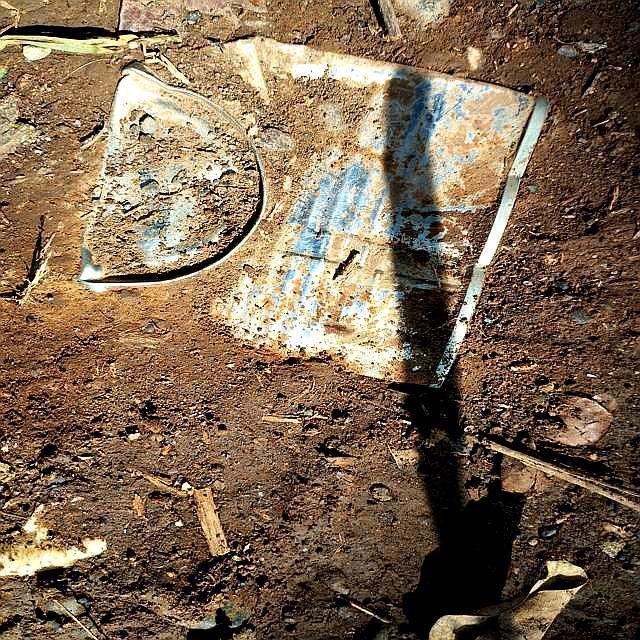Non-biodegradable: (65, 34, 560, 399)
